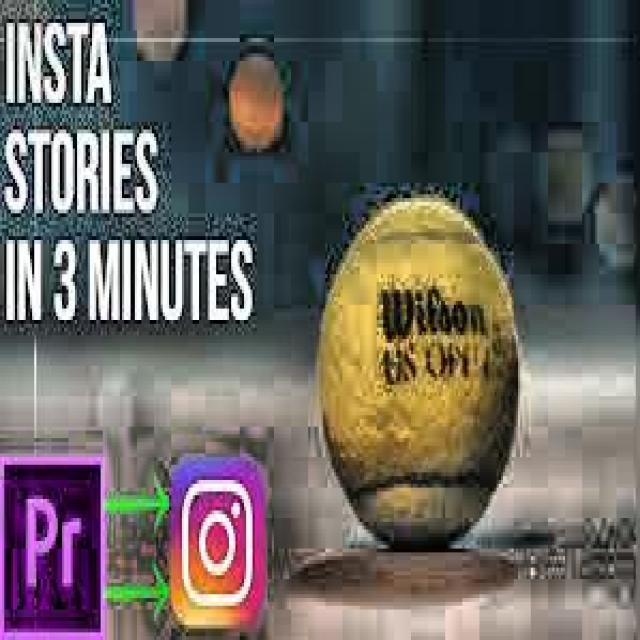tennis-ball: (310, 181, 526, 566)
